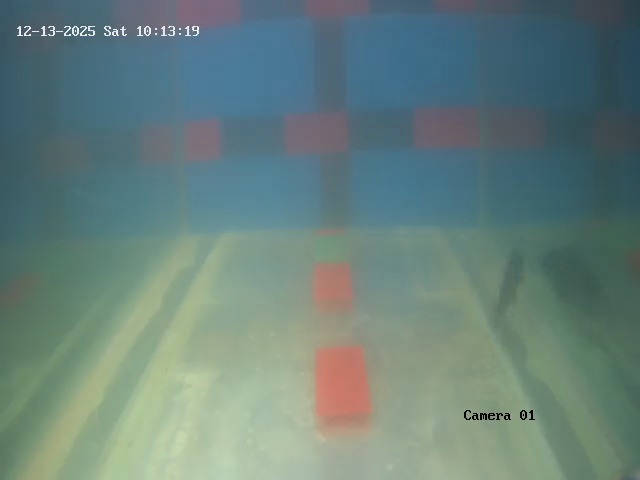fish: (489, 246, 526, 330)
